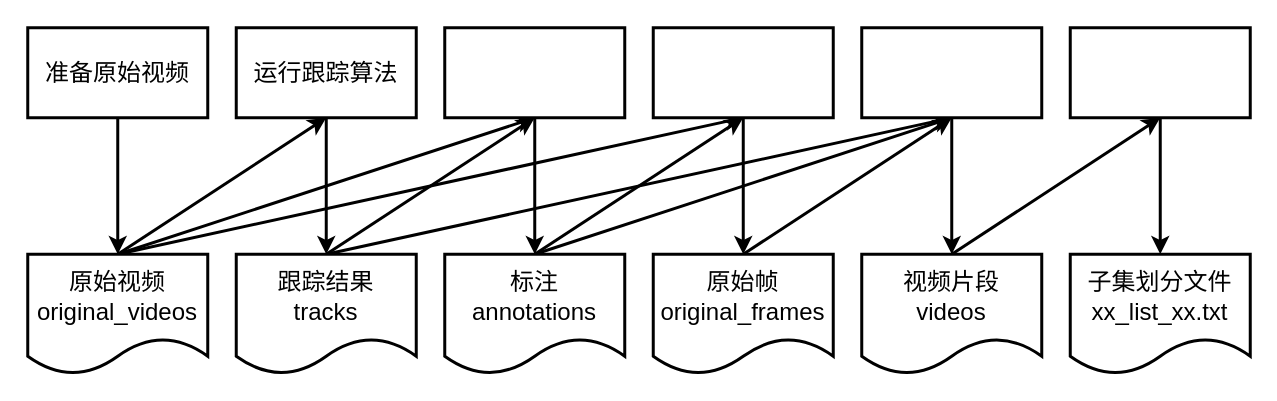
Image size: 1277x401. Some labels were removed from this diagram. The shapes that lost their labels are listed below. From the top down, each one's centre as x and y in pixels, then its label:
At pixel 534 72: "标注动作片段".
At pixel 742 72: "截取有效帧".
At pixel 951 72: "剪切视频片段".
At pixel 1159 72: "划分子集".
